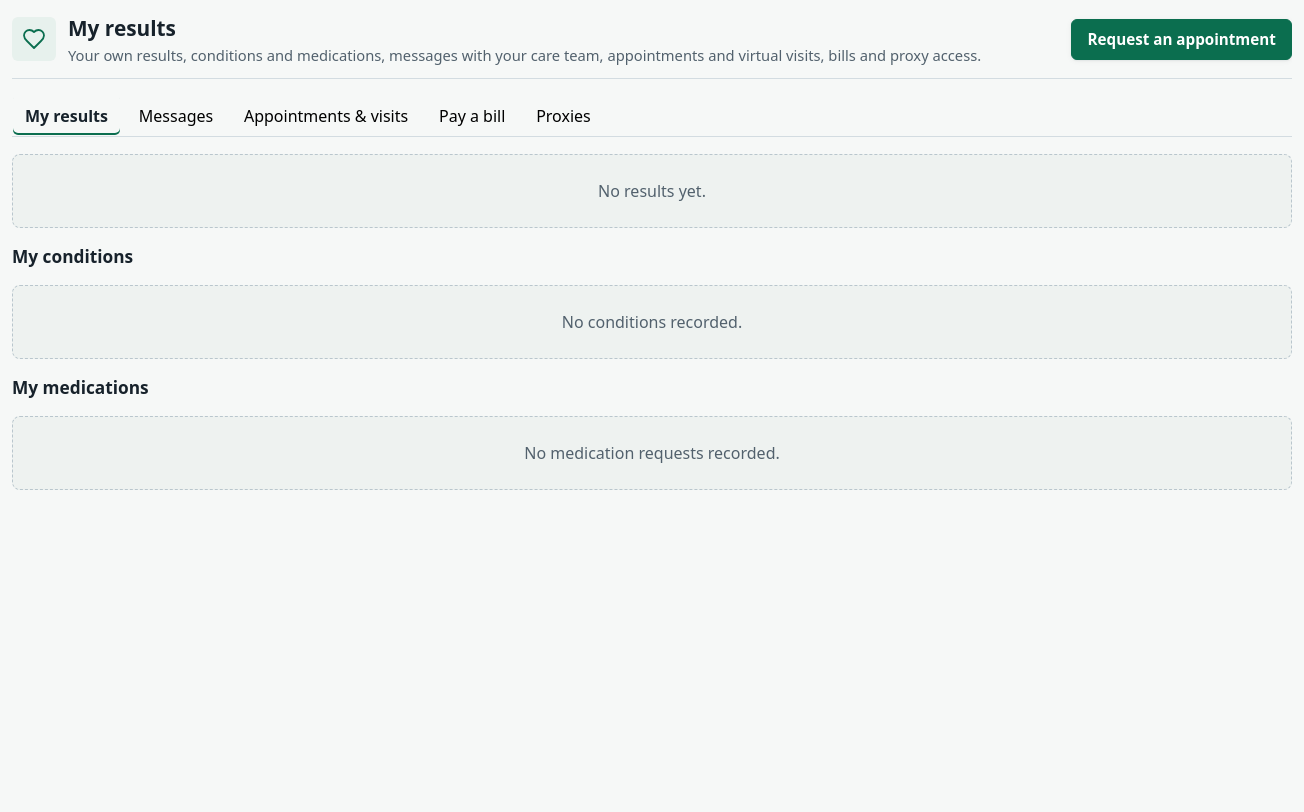
ModuleHeader adoption › Portal: header primary switches to the Appointments & visits tab
Expected: the text "No results yet." is shown, [598,179,706,203]
Click the button "Request an appointment" at (1182, 39), box [1071,19,1292,60]
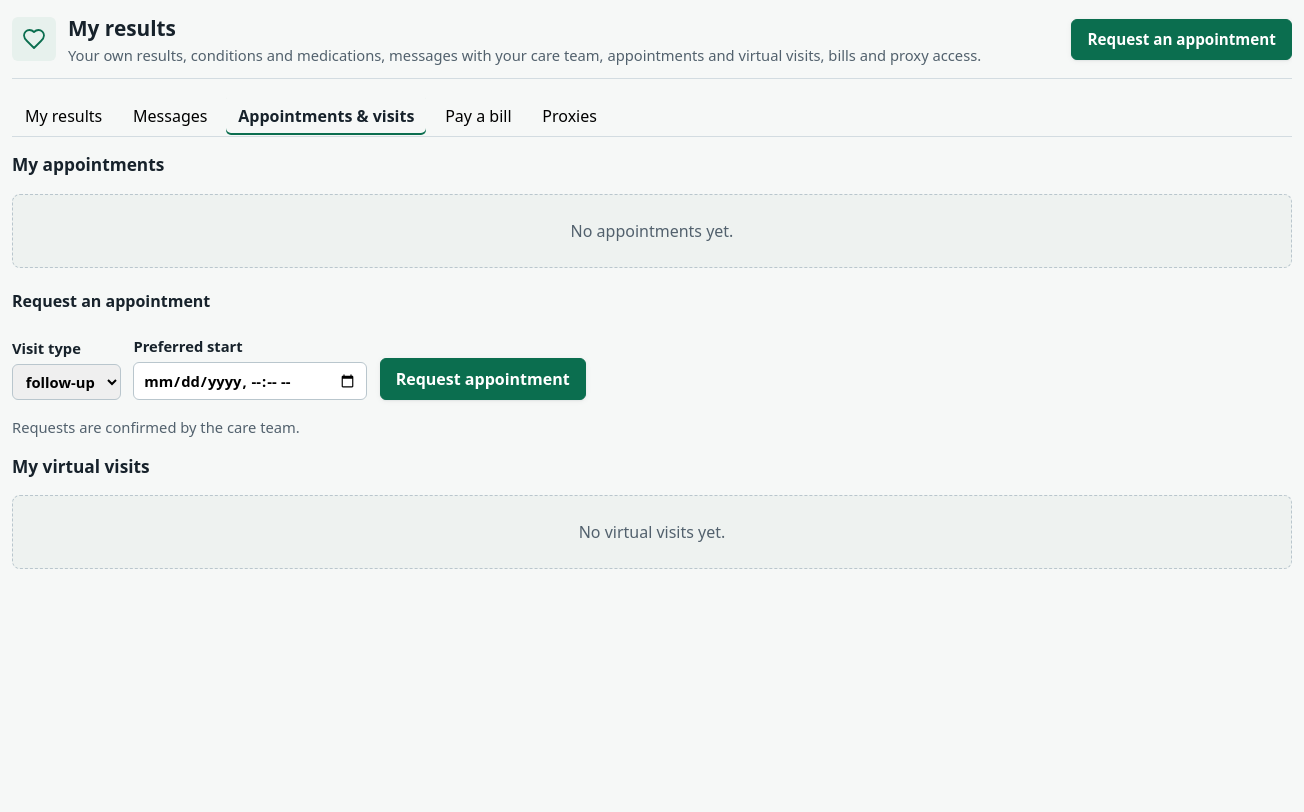
Now the heading "My appointments" is shown, box [12,153,164,176]
Now the heading "My virtual visits" is shown, box [12,455,150,478]
